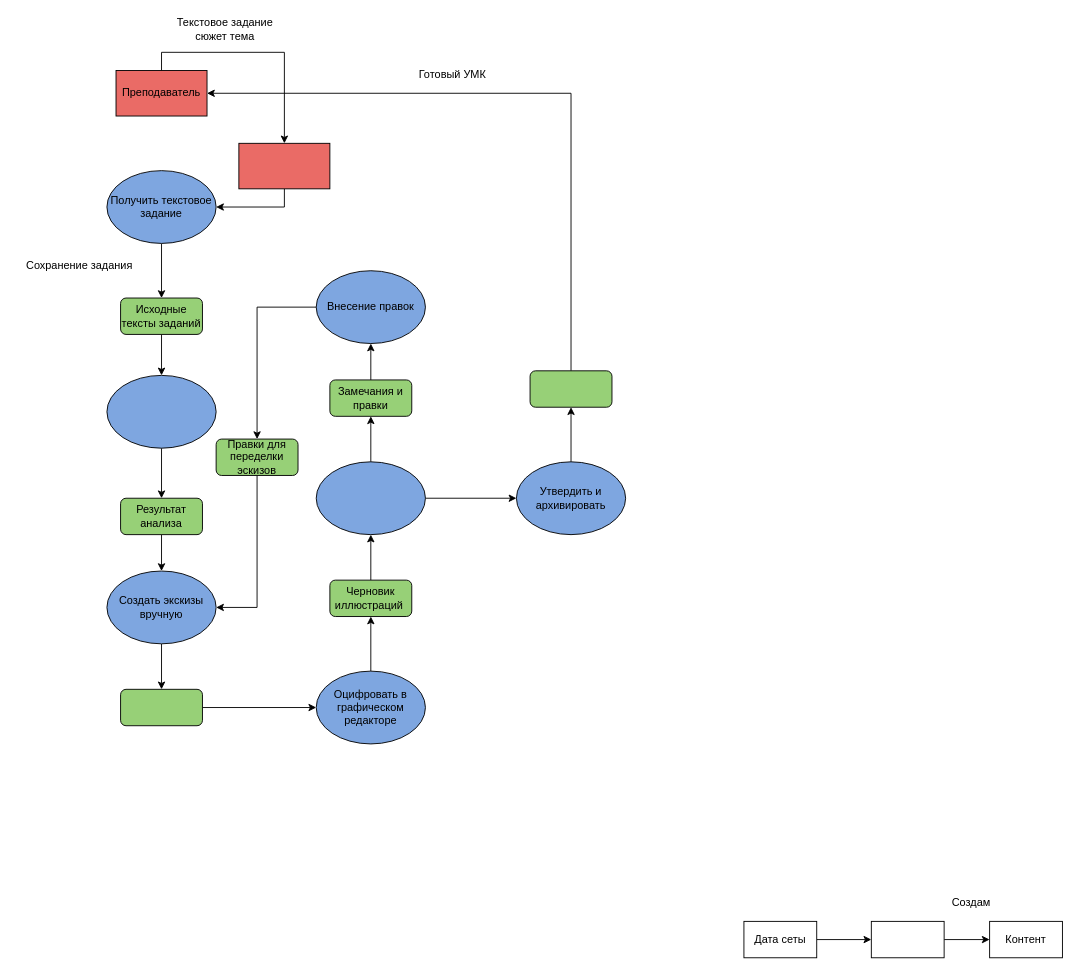
Image size: 1078x974. Some labels were removed from this diagram. The box of each missing label's shape, as (x1, y1, x2, y2) in pixels:
Бумажные и цифровые эскизы: (120, 688, 202, 726)
Обучение: (870, 920, 944, 958)
Проанализировать сюжет: (106, 374, 216, 448)
Согласовать с преподавателем: (315, 461, 425, 535)
Студент/Методист: (238, 142, 330, 189)
Финальные материалы: (529, 370, 612, 407)
